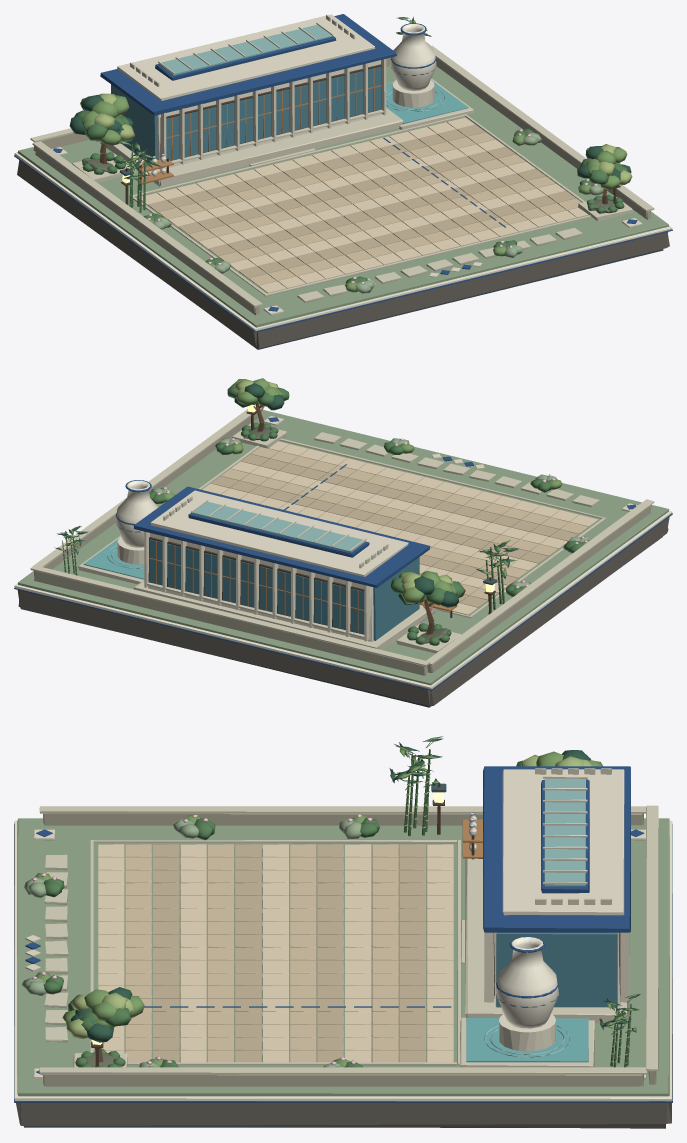
File: museum.glb
3 views of the same model, one above another, from view 1: azimuth 30°, elevation 25°; view 2: azimuth 150°, elevation 25°; view 3: azimuth 270°, elevation 25° (orthographic). The views are drawn at different scales.
Visible parts, largest first — view 1: Garden ground, Individual courtyard flagstone, Courtyard border, Individual courtyard flagstone.001, Individual courtyard flagstone.002, Corner porcelain medallion, 20 × 20 square island, Blue reflected glazing, Cobalt perimeter inlay, Porcelain perimeter band, Low stone garden wall, Mounded planting.001 (+8 smaller); view 2: Garden ground, Courtyard border, Corner porcelain medallion, 20 × 20 square island, Individual courtyard flagstone, Blue reflected glazing, Individual courtyard flagstone.002, Individual courtyard flagstone.001, Low stone garden wall, Cobalt perimeter inlay, Porcelain perimeter band, Mounded planting.001 (+7 smaller); view 3: Garden ground, Individual courtyard flagstone, Courtyard border, Individual courtyard flagstone.001, Individual courtyard flagstone.002, Corner porcelain medallion, 20 × 20 square island, Low stone garden wall, Cobalt perimeter inlay, Porcelain perimeter band, Blue reflected glazing, Reflecting glass skylight (+7 smaller).
Boxes of the visible parts, left/top/right/bottom form: Garden ground: left=17, top=66, right=668, bottom=327; Individual courtyard flagstone: left=139, top=117, right=588, bottom=293; Courtyard border: left=30, top=14, right=654, bottom=307; Individual courtyard flagstone.001: left=148, top=125, right=575, bottom=278; Individual courtyard flagstone.002: left=158, top=132, right=581, bottom=285; Corner porcelain medallion: left=51, top=14, right=642, bottom=315; 20 × 20 square island: left=17, top=160, right=669, bottom=348; Blue reflected glazing: left=111, top=66, right=381, bottom=161; Cobalt perimeter inlay: left=14, top=14, right=672, bottom=332; Porcelain perimeter band: left=14, top=24, right=672, bottom=330; Low stone garden wall: left=33, top=57, right=651, bottom=315; Mounded planting.001: left=74, top=18, right=627, bottom=283; Garden ground: left=18, top=409, right=669, bottom=685; Courtyard border: left=30, top=407, right=654, bottom=666; Corner porcelain medallion: left=117, top=416, right=637, bottom=641; 20 × 20 square island: left=17, top=515, right=669, bottom=705; Individual courtyard flagstone: left=202, top=441, right=598, bottom=615; Blue reflected glazing: left=149, top=539, right=419, bottom=640; Individual courtyard flagstone.002: left=221, top=447, right=588, bottom=600; Individual courtyard flagstone.001: left=211, top=454, right=578, bottom=607; Low stone garden wall: left=33, top=413, right=651, bottom=675; Cobalt perimeter inlay: left=14, top=417, right=672, bottom=690; Porcelain perimeter band: left=14, top=480, right=672, bottom=689; Mounded planting.001: left=62, top=384, right=583, bottom=645; Garden ground: left=17, top=818, right=669, bottom=1096; Individual courtyard flagstone: left=98, top=844, right=453, bottom=1062; Courtyard border: left=39, top=768, right=658, bottom=1074; Individual courtyard flagstone.001: left=153, top=844, right=426, bottom=1062; Individual courtyard flagstone.002: left=125, top=844, right=398, bottom=1062; Corner porcelain medallion: left=25, top=769, right=646, bottom=1079; 20 × 20 square island: left=16, top=1101, right=671, bottom=1128; Low stone garden wall: left=43, top=813, right=656, bottom=1086; Cobalt perimeter inlay: left=14, top=766, right=672, bottom=1102; Porcelain perimeter band: left=14, top=813, right=672, bottom=1101; Blue reflected glazing: left=496, top=932, right=617, bottom=1007; Reflecting glass skylight: left=484, top=778, right=585, bottom=1057.
Bounding box in the file's own units: 20.06 × 5.13 × 20.06.
